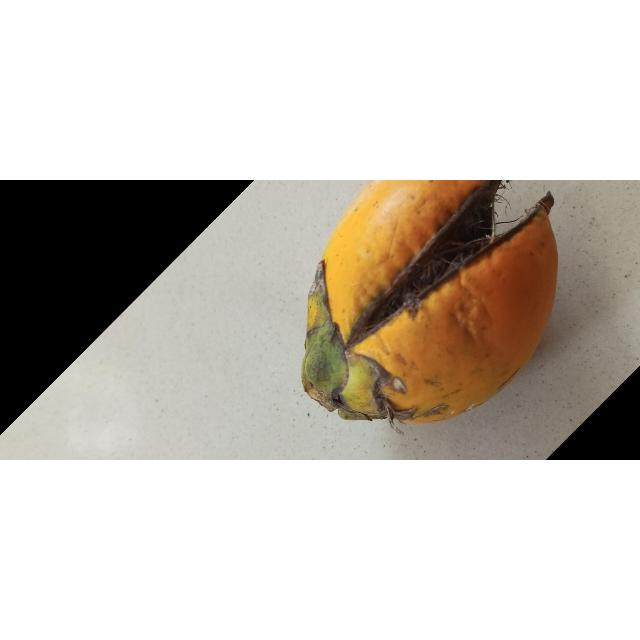damaged: (301, 180, 558, 435)
